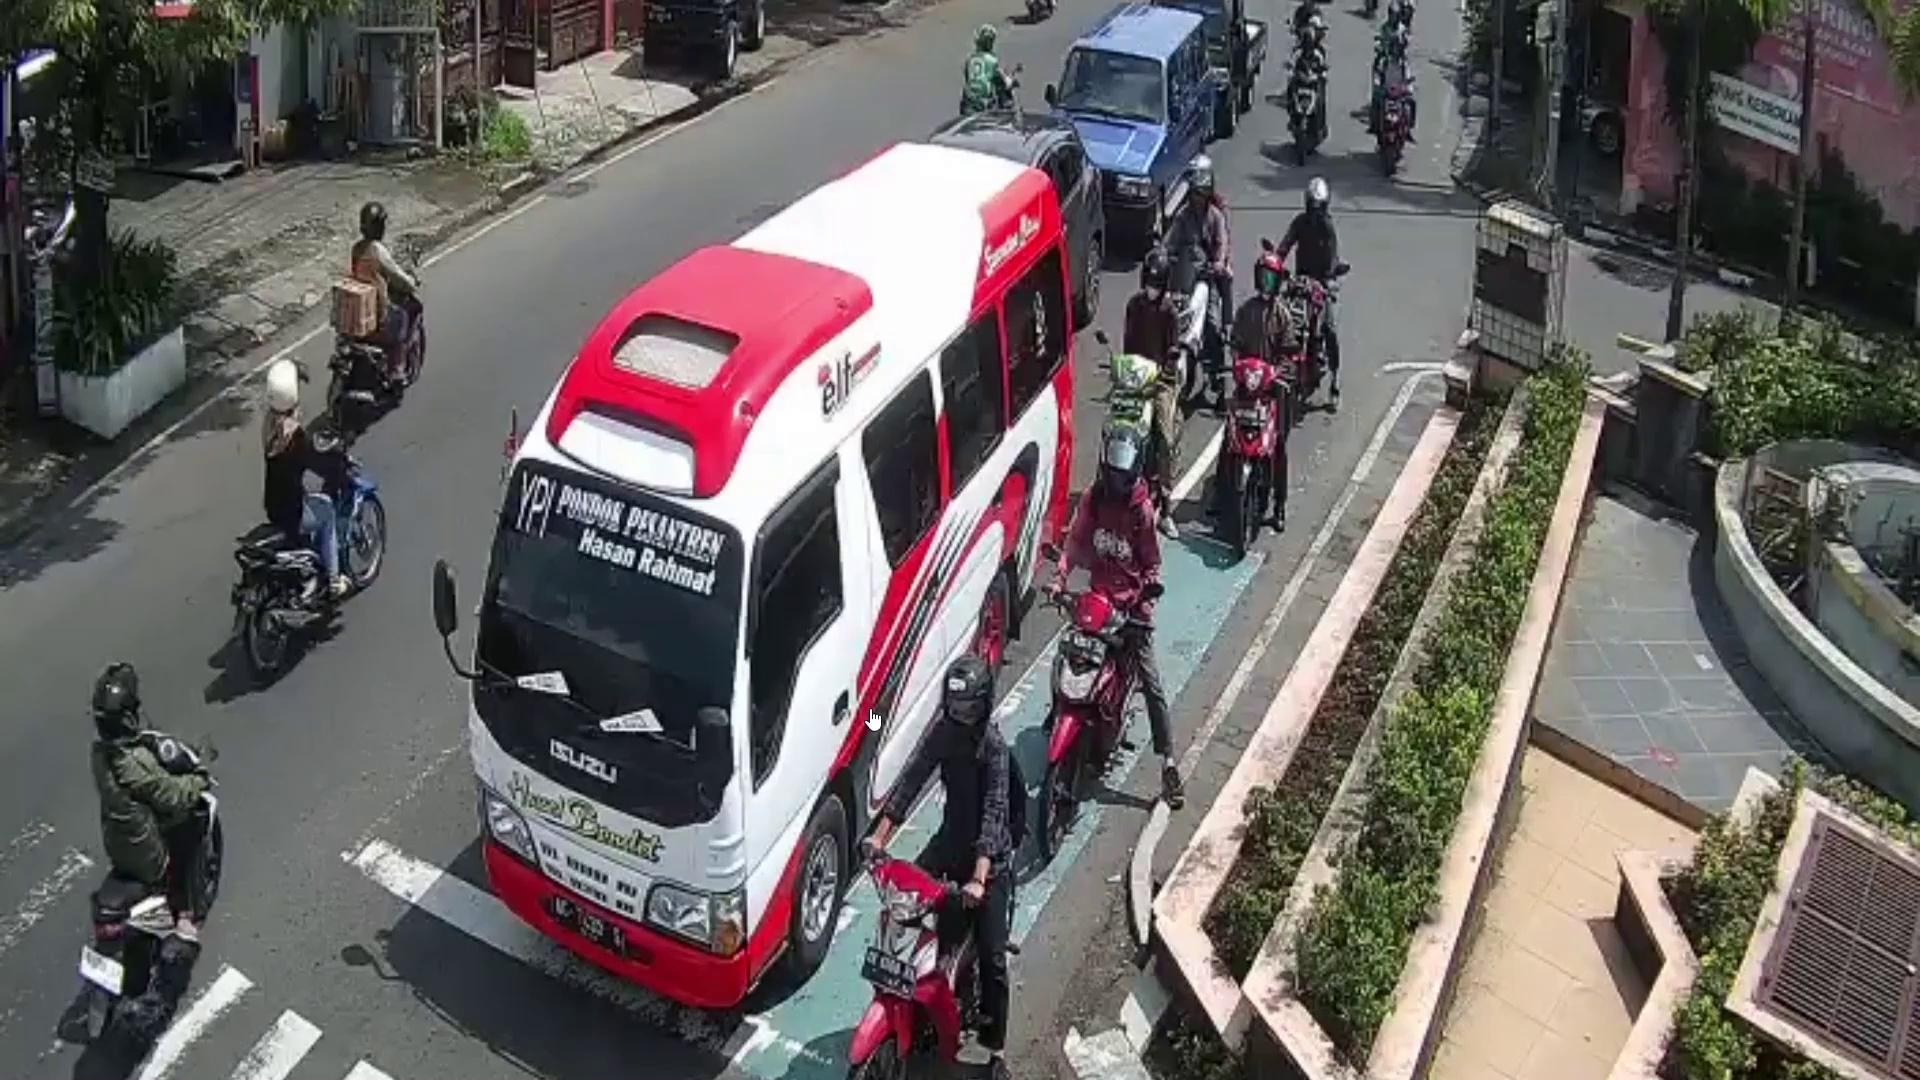bus: (471, 138, 1073, 1002)
car: (1052, 0, 1221, 244), (938, 105, 1110, 310), (1195, 0, 1273, 116)
motorbike: (73, 732, 225, 1050), (215, 429, 392, 674), (856, 847, 997, 1080), (1047, 585, 1138, 848), (330, 258, 434, 423), (1089, 353, 1170, 526), (1228, 365, 1280, 555), (1287, 277, 1337, 405), (1375, 88, 1410, 173), (1294, 62, 1321, 166)
